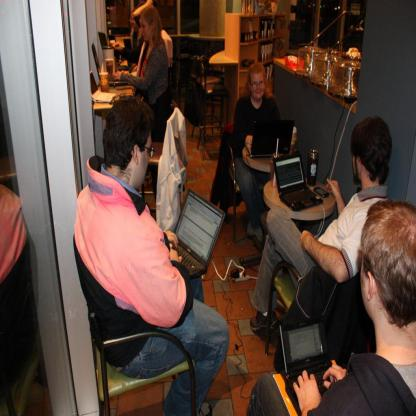board: (280, 314, 334, 416), (169, 187, 226, 280), (272, 150, 324, 212), (245, 120, 294, 158), (91, 42, 128, 86), (91, 70, 116, 105)
